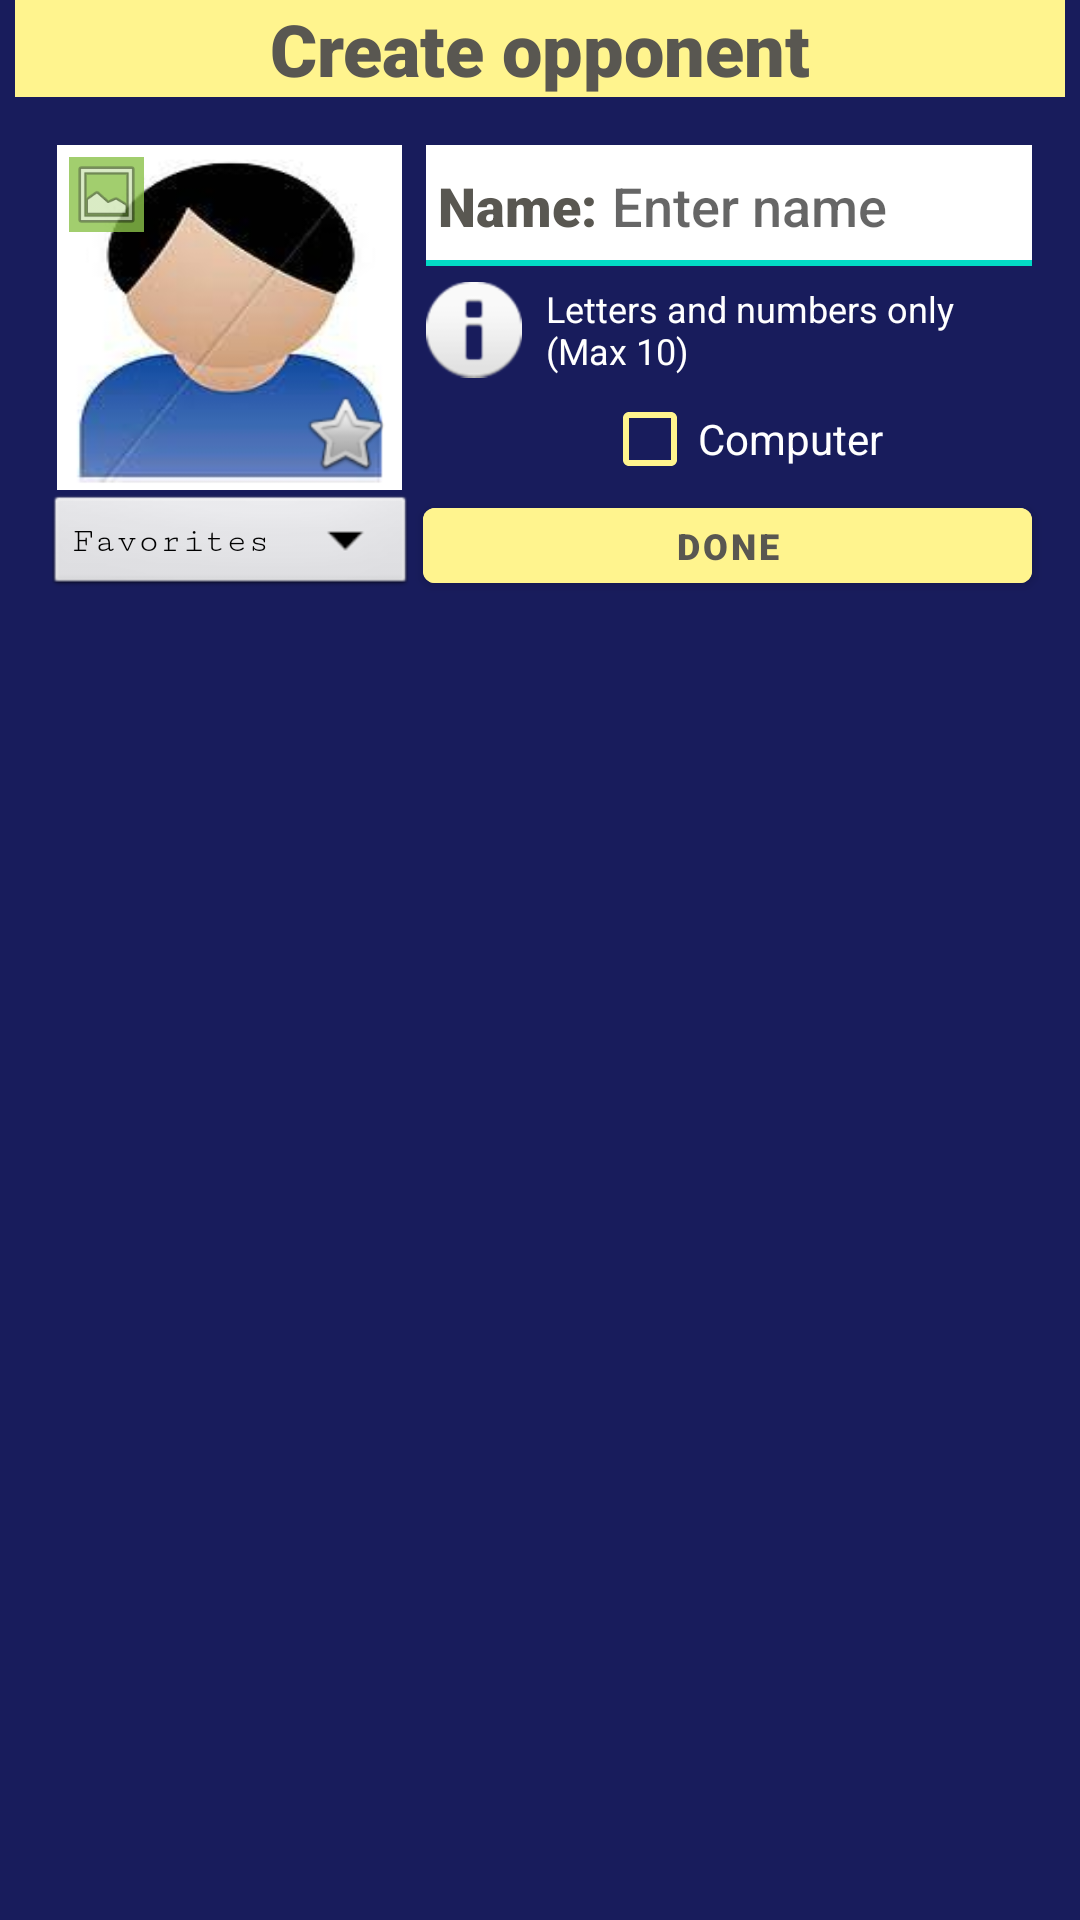

Where icons sit on this 1080px×1920px app screen, as {"x1": x1, "y1": y1, "x2": x2, "y2": y2}:
Button for selecting image for profile picture: {"x1": 69, "y1": 157, "x2": 144, "y2": 232}
Info: {"x1": 426, "y1": 282, "x2": 522, "y2": 378}
